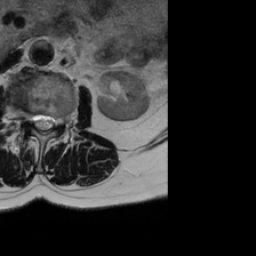CCS_normal: (39, 106, 47, 140)
LFS_normal: (55, 108, 63, 132)
LLS_normal: (47, 108, 55, 136)
RFS_normal: (23, 103, 31, 129)
RLS_normal: (31, 107, 39, 132)
